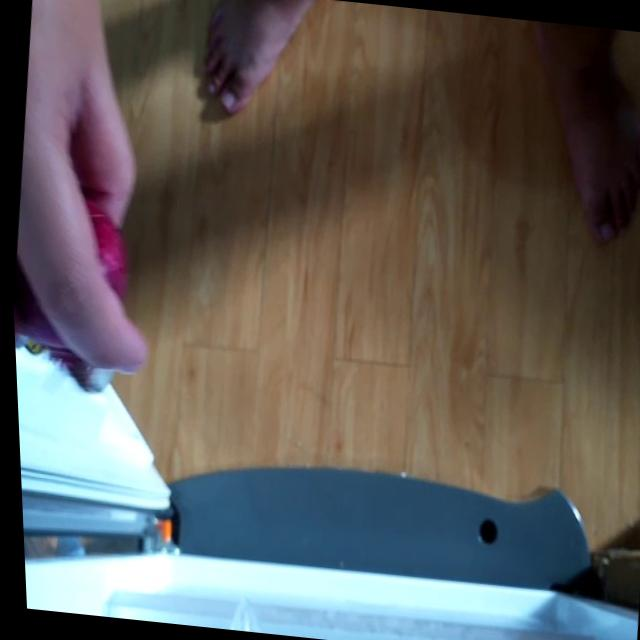onion: (10, 202, 145, 372)
